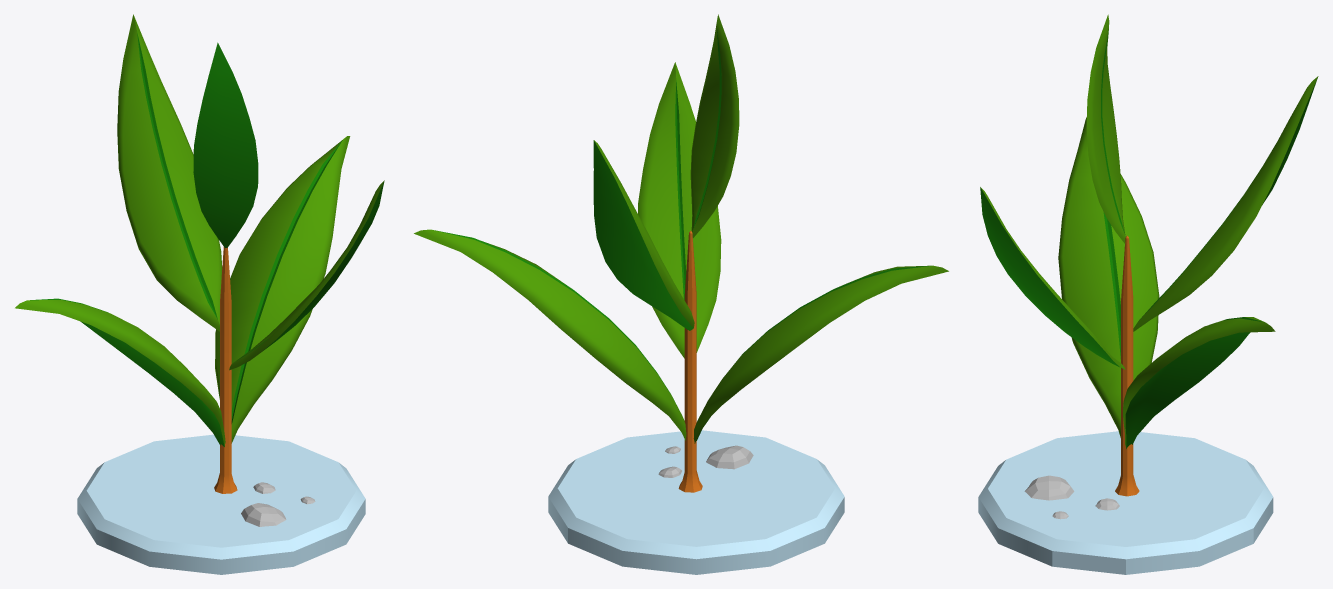
The model's file is Herb3.fbx.
3 renders of one model, left to right at view 1: azimuth 30°, elevation 25°; view 2: azimuth 150°, elevation 25°; view 3: azimuth 270°, elevation 25°, orthographic. The views are drawn at different scales.
Visible parts, largest first — view 1: Herb3_LOD0; view 2: Herb3_LOD0; view 3: Herb3_LOD0.
Part boxes in pixels (<box>): Herb3_LOD0: <box>15,14,384,574</box>; Herb3_LOD0: <box>414,14,948,574</box>; Herb3_LOD0: <box>978,14,1318,574</box>.
Size of what is drawn, in the model's own units: 288 by 309 by 194.
